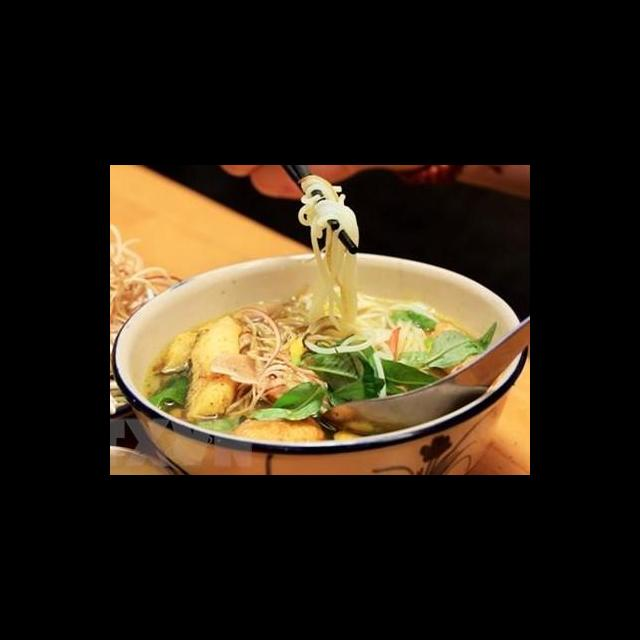bun: (295, 168, 435, 354)
bun ca: (124, 195, 521, 475)
ca: (187, 308, 246, 422)
rau ram: (298, 331, 443, 407), (392, 317, 500, 374), (245, 378, 333, 425), (143, 367, 192, 414)
